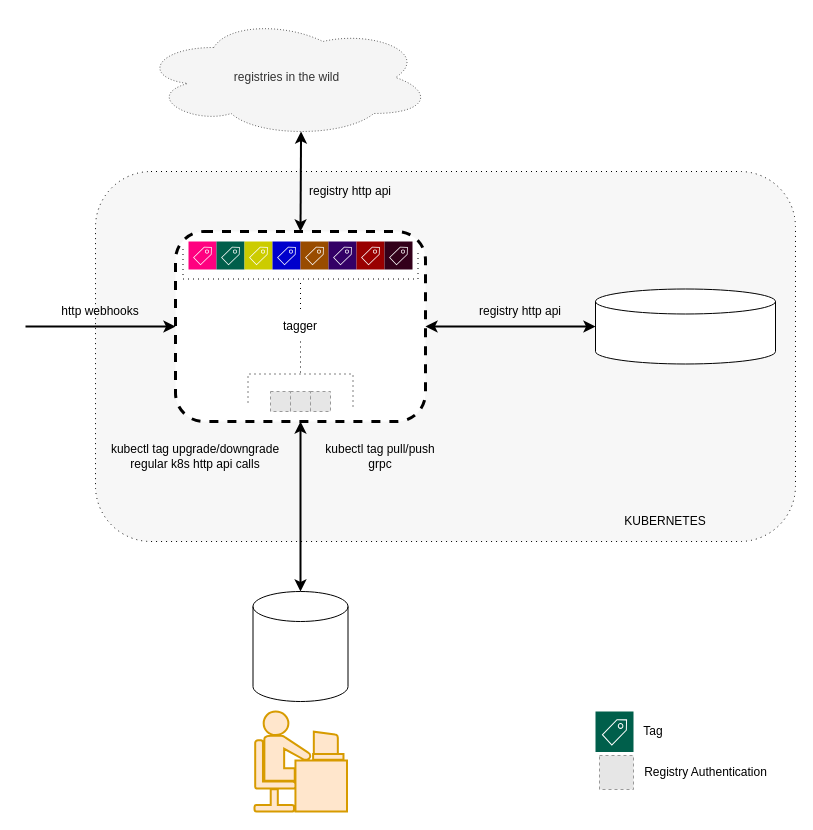
Image size: 813x830. Some labels were removed from this diagram. Grey dashed boxes stand in for pictures. Here are the shapes that lost their labels. From the top down, the centre of each, then its label:
[685,326]: internal registry
[300,646]: podman/docker local storage
